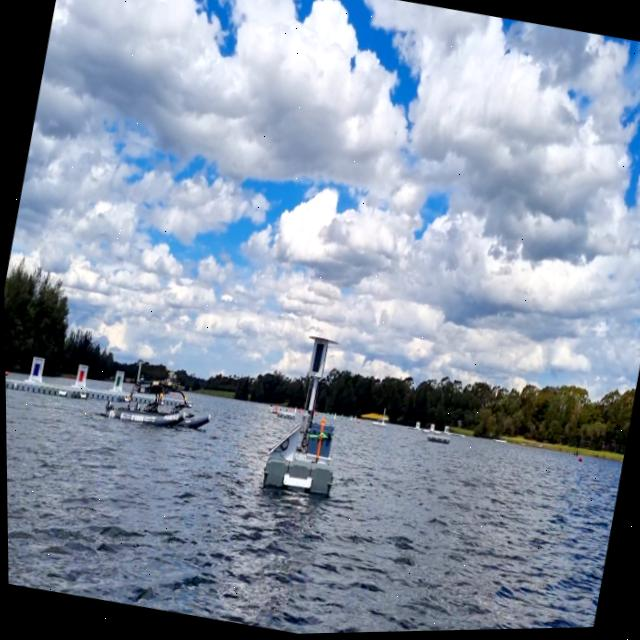led: (308, 343, 326, 376)
